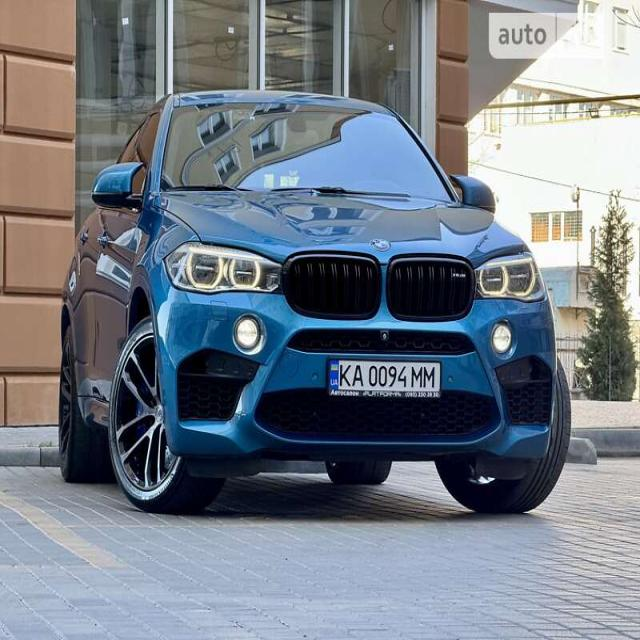plate: (321, 351, 448, 409)
